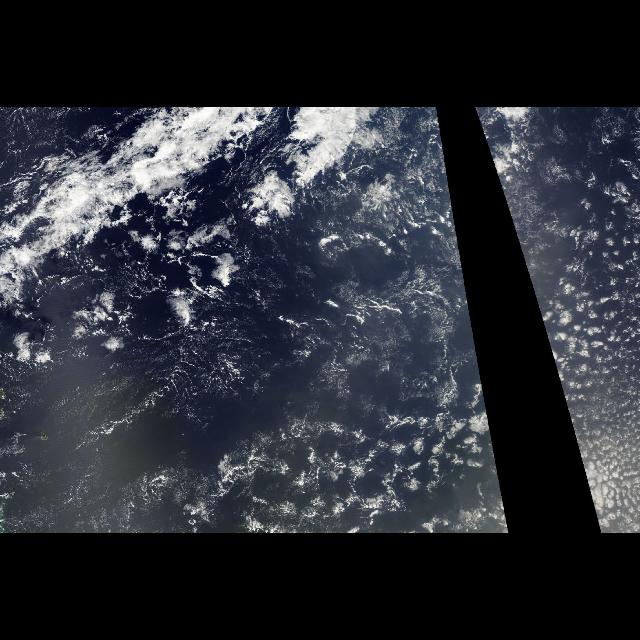Gravel: (195, 298, 505, 534)
Sugar: (81, 352, 337, 431)
